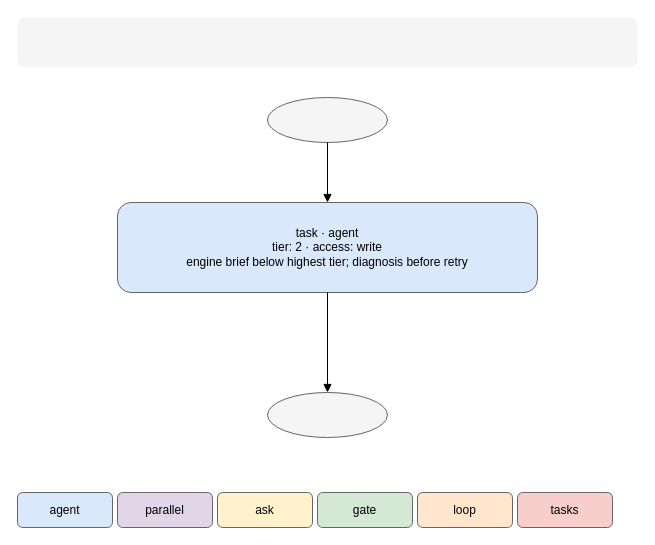
The diagram is 655 pixels wide and 545 high, and some of its shapes have lost their labels. Here are the shapes that lost their labels. From the top down, the centre of each, then its label:
At pixel 327 42: "Workflow · budget: 32 calls".
At pixel 327 119: "Start".
At pixel 327 415: "End".
